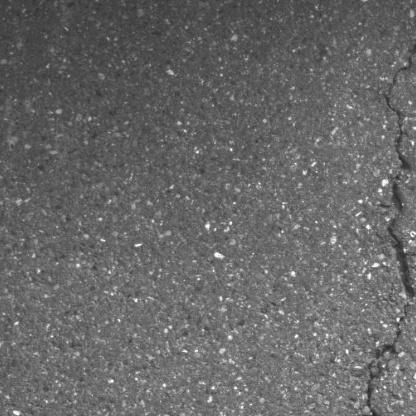Cracks: (364, 0, 416, 416)
